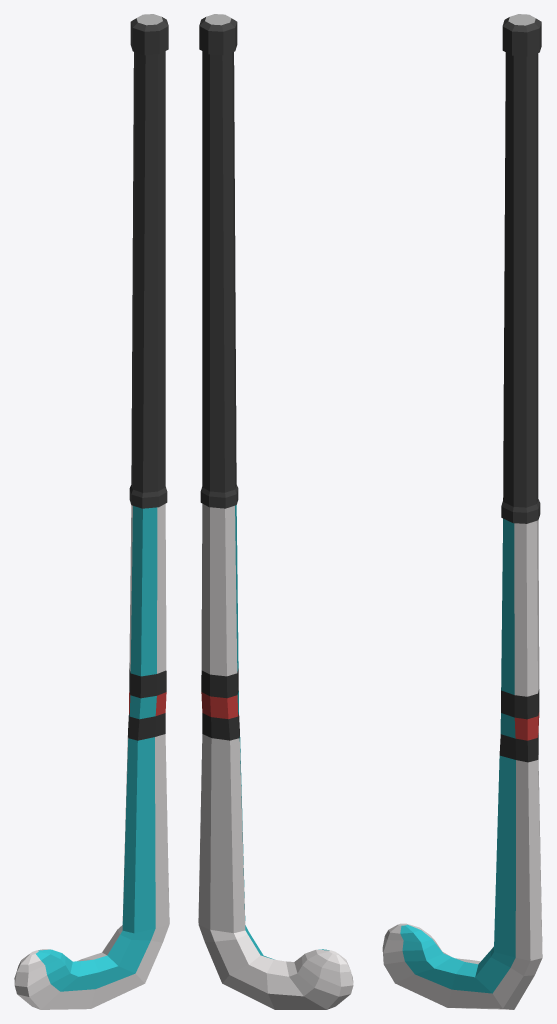
File: Field Hockey Stick.fbx
3 renders of one model, left to right at view 1: azimuth 30°, elevation 25°; view 2: azimuth 150°, elevation 25°; view 3: azimuth 330°, elevation 25°, orthographic. The views are drawn at different scales.
Parts seen in each view (by area): view 1: Field Hockey Stick; view 2: Field Hockey Stick; view 3: Field Hockey Stick.
Part boxes in pixels (x1,y1,x2,y2): Field Hockey Stick: (14, 14, 169, 1009); Field Hockey Stick: (198, 14, 353, 1009); Field Hockey Stick: (382, 14, 542, 1009).
Size of the model in its own units: 153 by 914 by 38.26.
